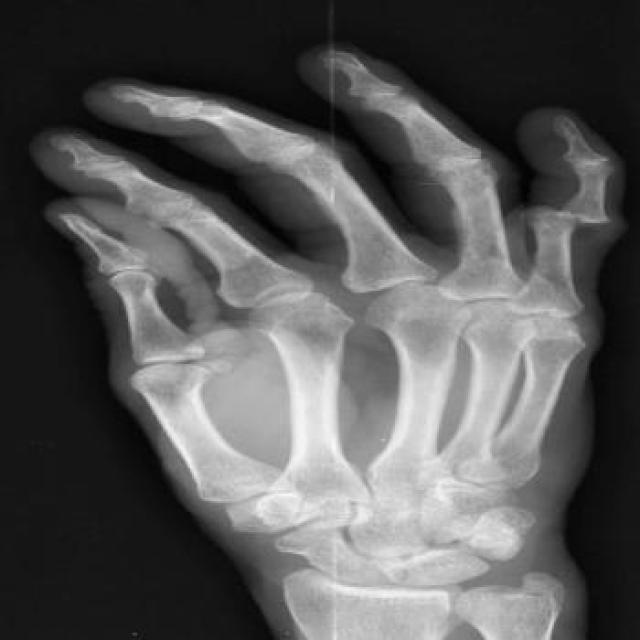Fracture: (525, 198, 622, 232)
